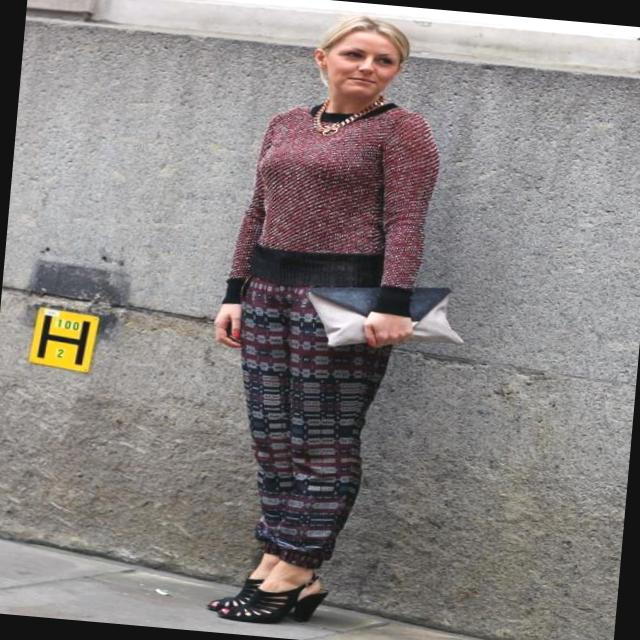pants: (218, 266, 399, 576)
sweater: (220, 88, 446, 318)
